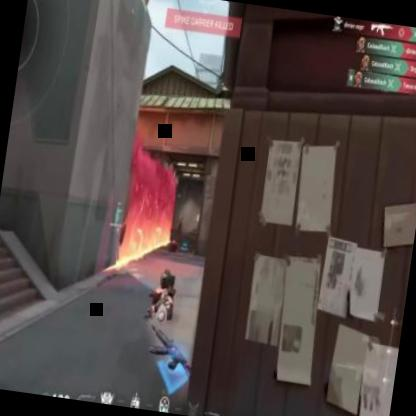enemy: (175, 210, 184, 236)
enemy_head: (179, 214, 182, 219)
